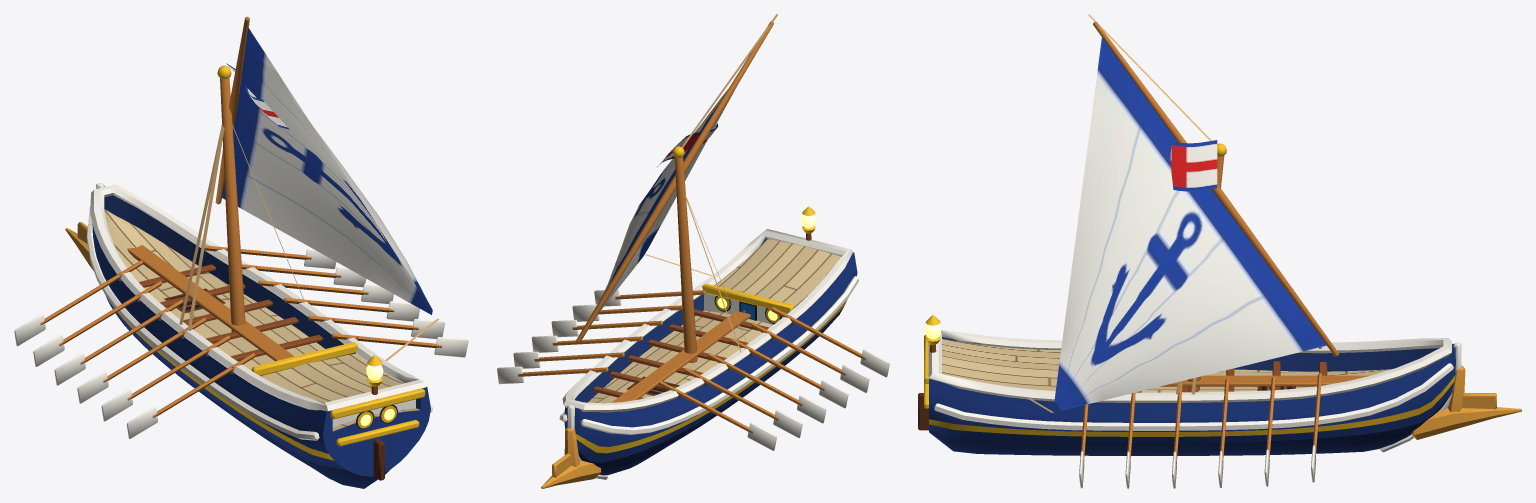
Rendered from navy_galley.glb.
The picture shows the model from 3 angles, left to right: view 1: azimuth 30°, elevation 25°; view 2: azimuth 150°, elevation 25°; view 3: azimuth 270°, elevation 25°; orthographic projection. The views are drawn at different scales.
Parts seen in each view (by area): view 1: Hull, Sail0_0, OarsL, OarsR, Rigging; view 2: Hull, OarsL, Rigging, OarsR, Sail0_0; view 3: Hull, Sail0_0, Rigging, OarsR, Flag.
Part boxes in pixels (x1=…): Hull: x1=65, y1=183, x2=432, y2=488; Sail0_0: x1=221, y1=27, x2=432, y2=314; OarsL: x1=14, y1=260, x2=255, y2=438; OarsR: x1=201, y1=245, x2=468, y2=357; Rigging: x1=179, y1=16, x2=438, y2=360; Hull: x1=541, y1=206, x2=858, y2=488; OarsL: x1=658, y1=307, x2=889, y2=450; Rigging: x1=576, y1=14, x2=777, y2=362; OarsR: x1=497, y1=289, x2=705, y2=384; Sail0_0: x1=598, y1=87, x2=736, y2=313; Hull: x1=918, y1=315, x2=1521, y2=455; Sail0_0: x1=1054, y1=37, x2=1326, y2=410; Rigging: x1=1027, y1=14, x2=1338, y2=412; OarsR: x1=1079, y1=373, x2=1321, y2=488; Flag: x1=1170, y1=140, x2=1217, y2=191.
Bounding box in the file's own units: 1.65 × 2.01 × 2.64.
8 materials, 4 textured.
